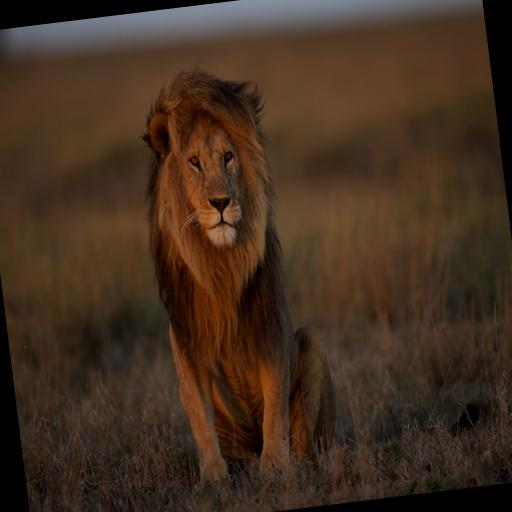lions: (117, 0, 396, 498)
